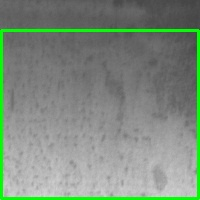pitted_surface: (1, 30, 198, 198)
